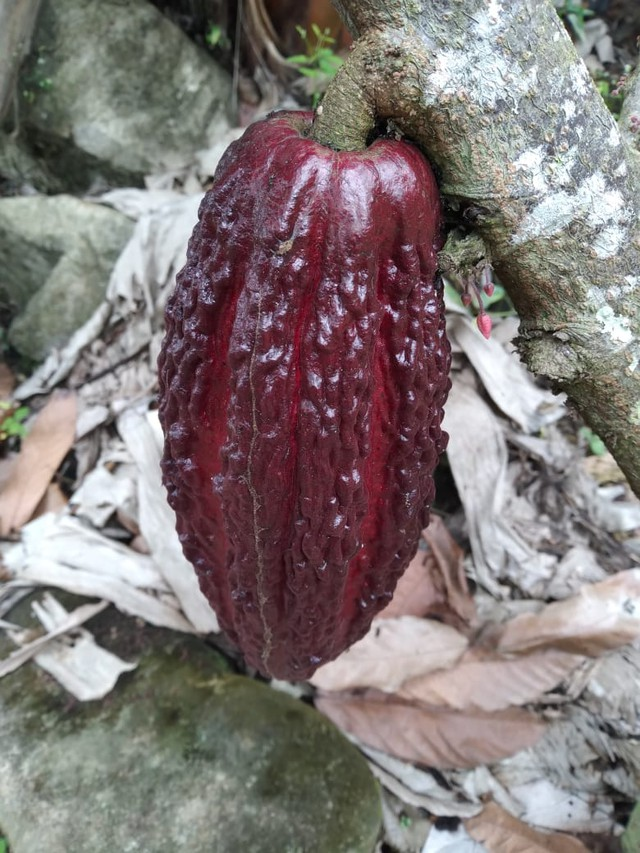Health: (145, 98, 458, 690)
